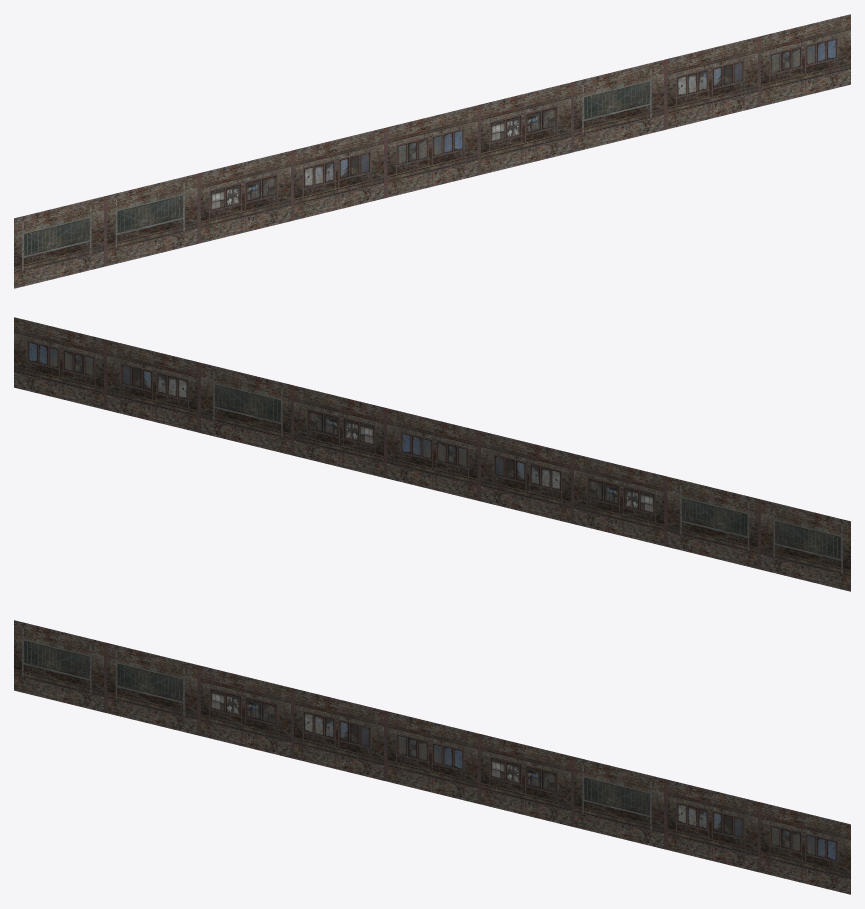
Rendered from L_Wall_02.FBX.
3 renders of one model, top to bottom at view 1: azimuth 30°, elevation 25°; view 2: azimuth 150°, elevation 25°; view 3: azimuth 330°, elevation 25°, orthographic.
Visible parts, largest first — view 1: L_Wall_02; view 2: L_Wall_02; view 3: L_Wall_02.
Part boxes in pixels (left/top/right/bottom): L_Wall_02: left=14, top=14, right=850, bottom=288; L_Wall_02: left=14, top=317, right=850, bottom=591; L_Wall_02: left=14, top=620, right=850, bottom=894.
Bounding box in the file's own units: 7104 × 571 × 0.000114.
